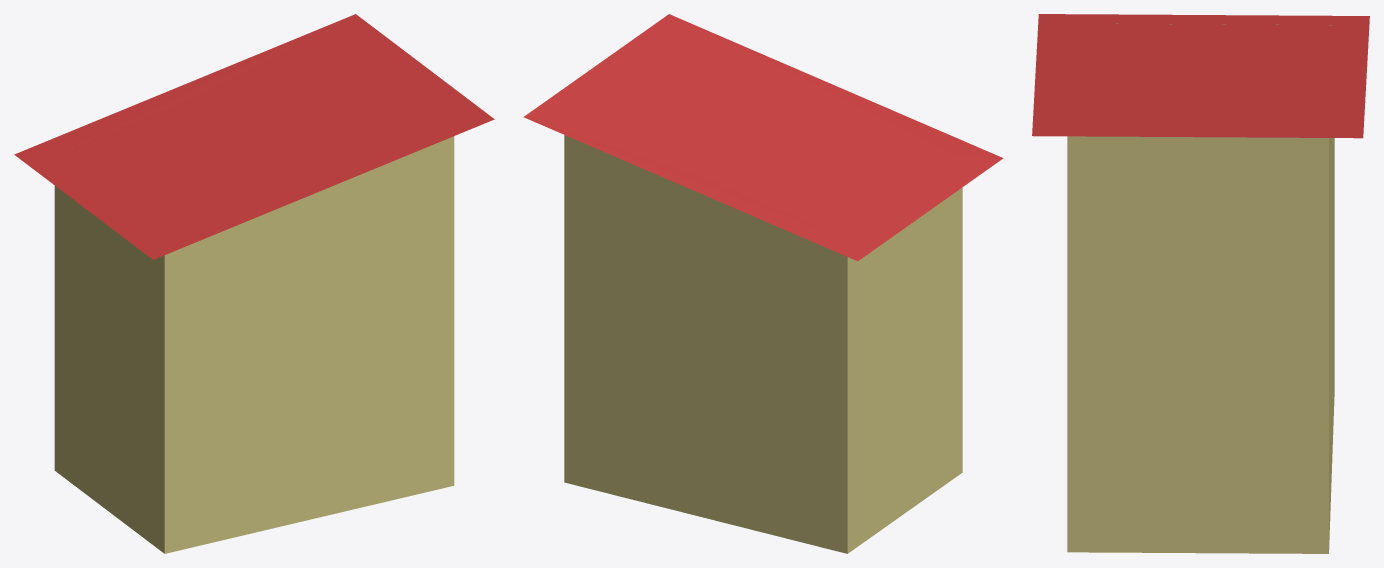
3 views of the same model, side by side, from view 1: azimuth 30°, elevation 25°; view 2: azimuth 150°, elevation 25°; view 3: azimuth 270°, elevation 25° (orthographic). The views are drawn at different scales.
Bounding box in the file's own units: 6.6 × 4.86 × 6.84.
